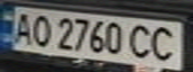0: (103, 20, 127, 56)
2: (51, 15, 75, 51)
6: (87, 18, 109, 54)
7: (69, 16, 90, 52)
A: (6, 10, 36, 46)
C: (145, 24, 187, 63), (124, 21, 160, 61)
O: (27, 12, 54, 47)
